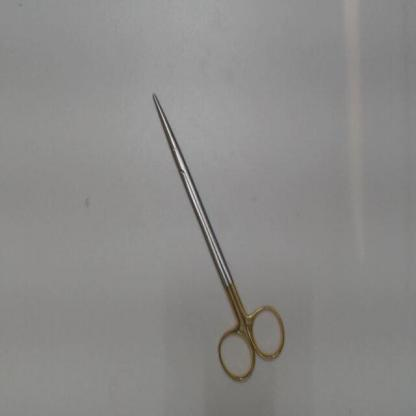7 Metzenbaum Scissors: (147, 87, 292, 388)
